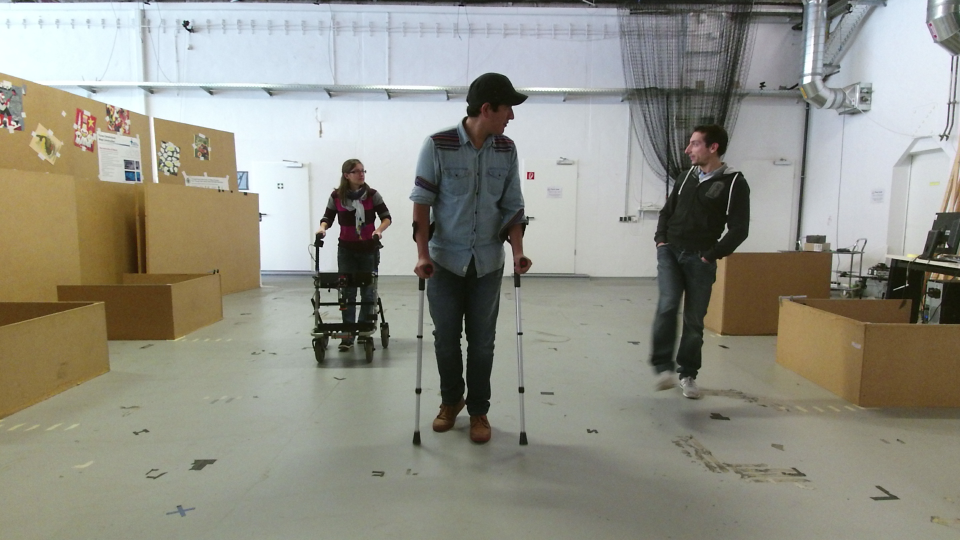crutches: (400, 68, 546, 436)
